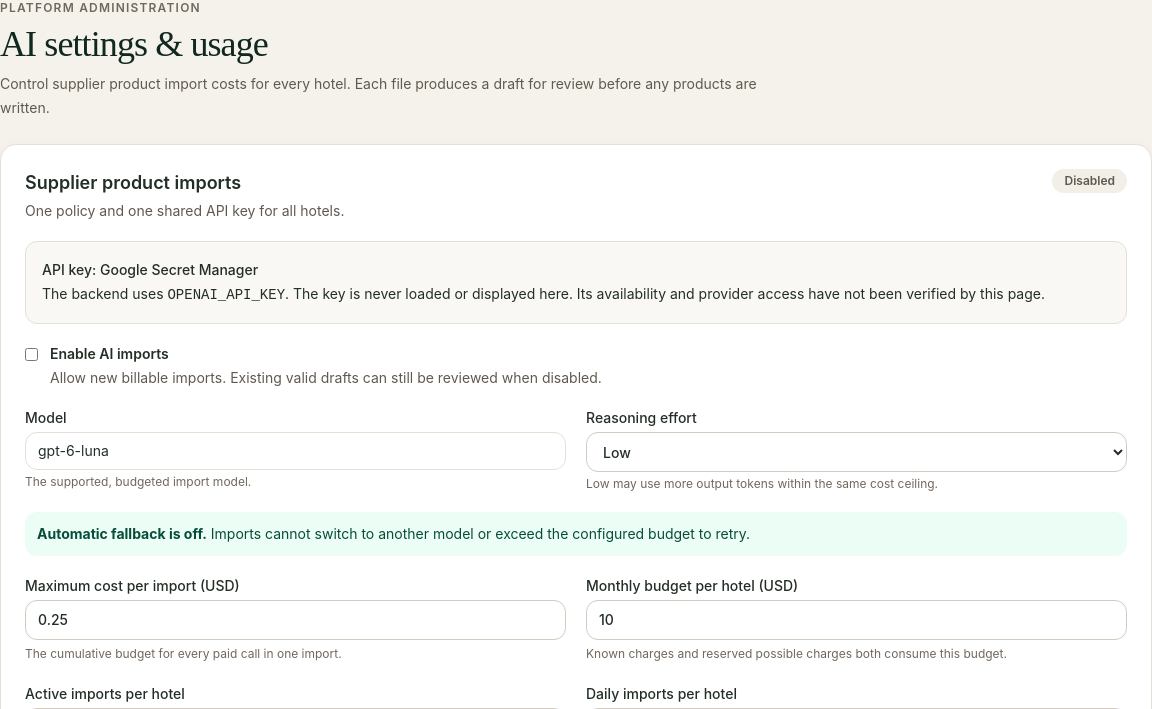
Test: saves explicit budgets with an optimistic revision and leaves fallback off
Expected: the number field labelled "Maximum cost per import (USD)" is shown, 25,600 -> 566,640
Click the checkbox labelled "Enable AI imports": (32, 354) 25,348 -> 38,361
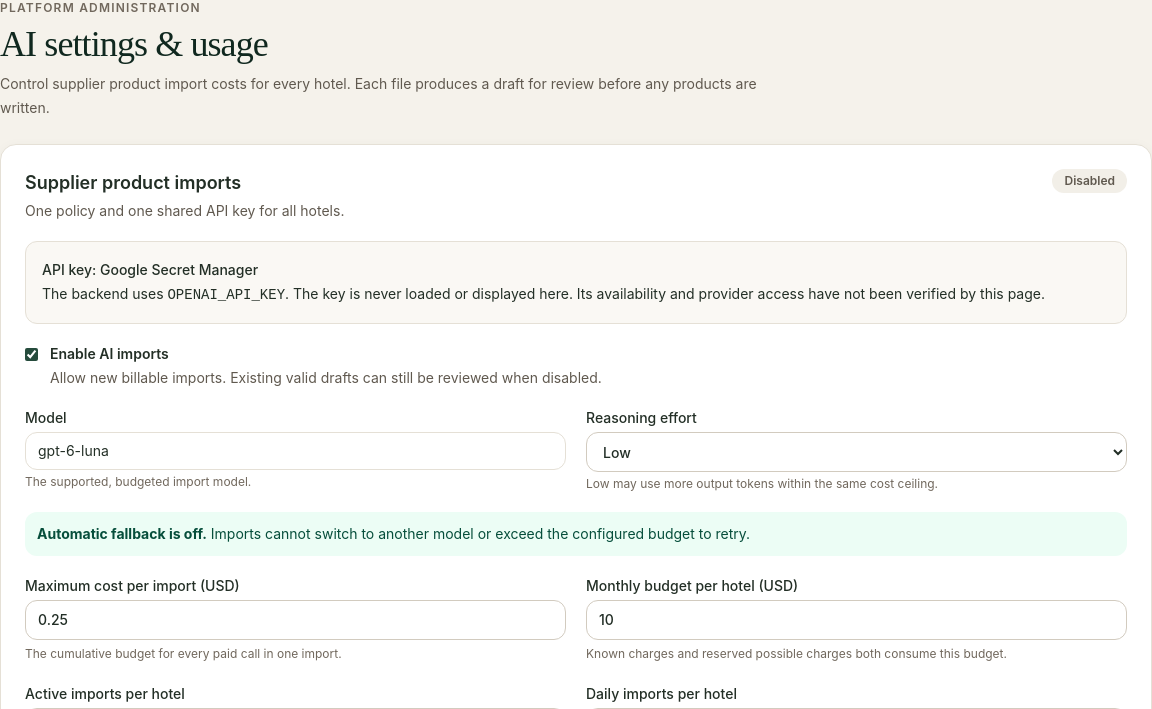
Replace the text in the number field labelled "Maximum cost per import (USD)" with "0.1": (296, 620) 25,600 -> 566,640
(page scrolled)
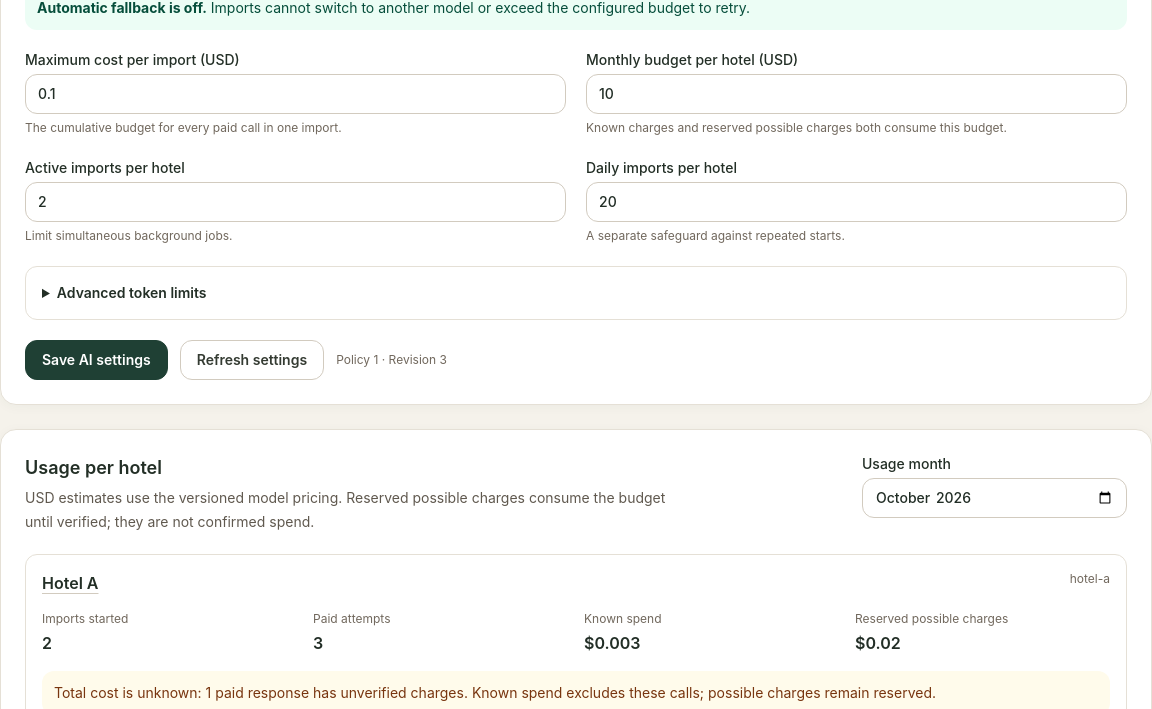
Click the button "Save AI settings": (96, 360) 25,340 -> 168,380
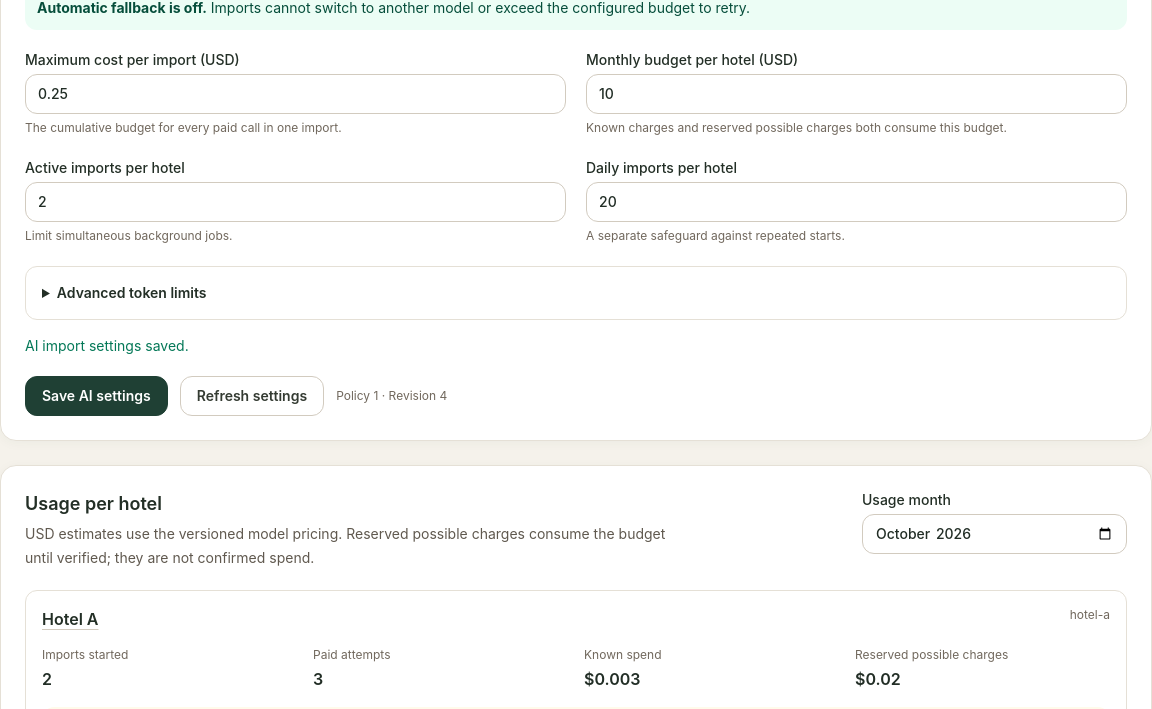
Expected: the text "AI import settings saved." is shown, 25,337 -> 189,354
